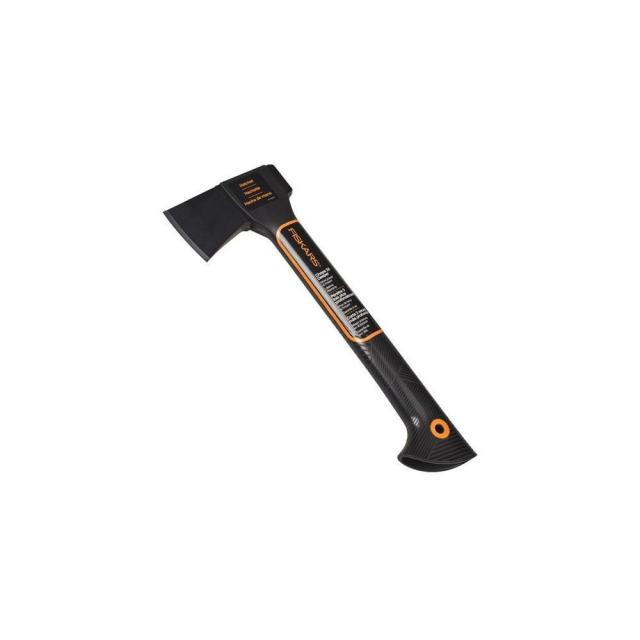Kapak: (134, 130, 462, 458)
